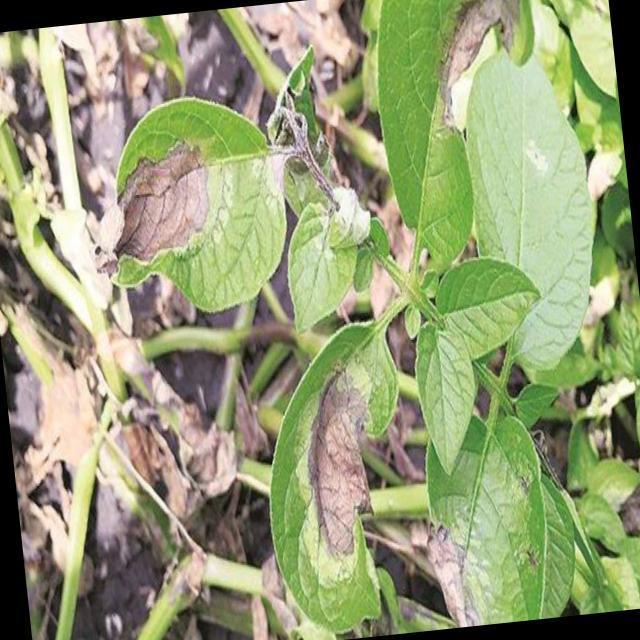Healthy Leaf: (411, 316, 482, 474), (434, 258, 545, 358)
